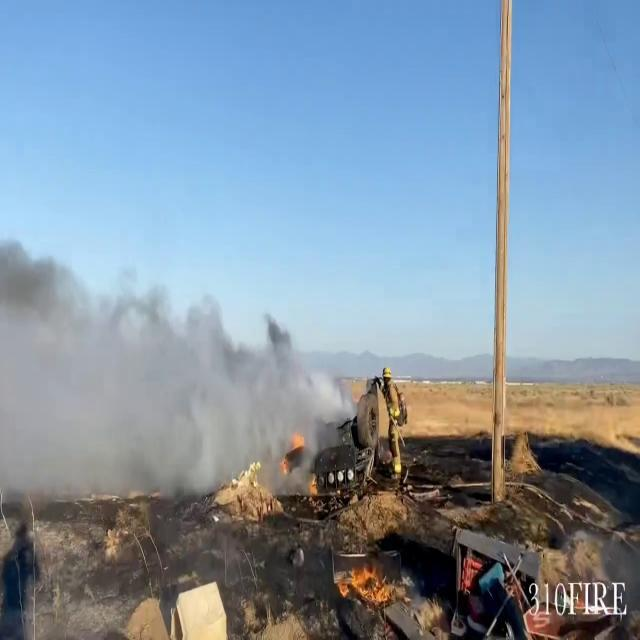Smoke: (0, 228, 345, 522)
